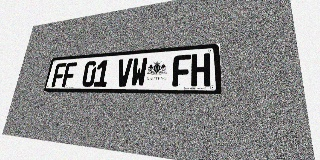0: (81, 61, 97, 87)
1: (93, 60, 110, 87)
F: (172, 54, 191, 86), (62, 62, 77, 87), (51, 63, 66, 87)
H: (191, 53, 210, 86)
V: (116, 58, 133, 87)
W: (130, 57, 148, 87)
